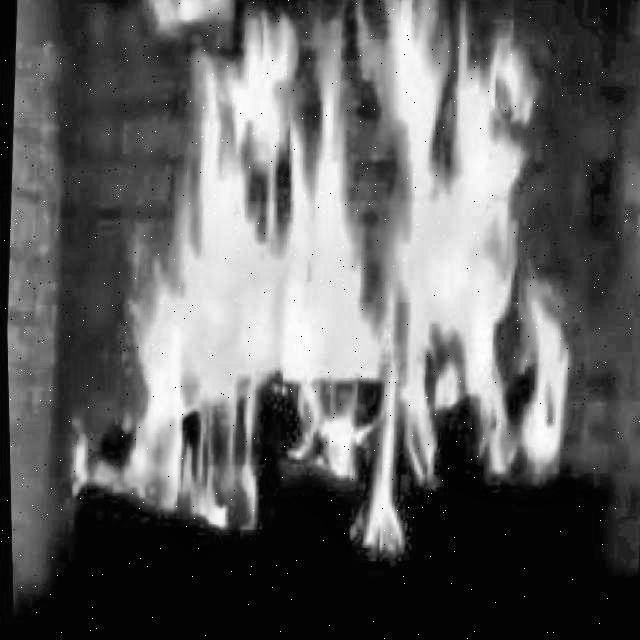Fire: (42, 0, 596, 590)
